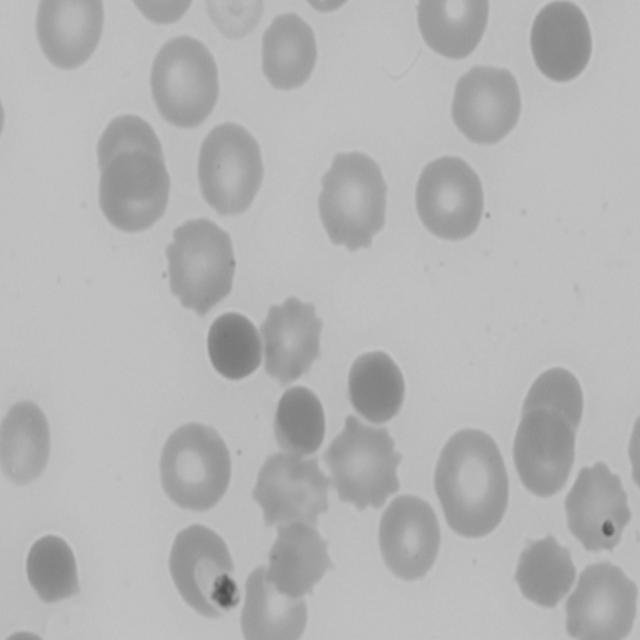RBC: (434, 428, 518, 543), (162, 517, 242, 626), (316, 148, 392, 252), (158, 418, 238, 516), (323, 413, 402, 511), (164, 216, 238, 318), (146, 31, 222, 130), (99, 134, 171, 235), (564, 458, 638, 556), (252, 446, 334, 534), (195, 120, 268, 218), (510, 404, 580, 504), (415, 152, 490, 245), (448, 59, 523, 148), (375, 490, 442, 584), (565, 559, 640, 640), (259, 294, 325, 384), (0, 394, 58, 488), (256, 11, 318, 96), (36, 0, 110, 71), (240, 561, 306, 640), (416, 0, 496, 65), (265, 517, 330, 593), (119, 0, 203, 29)
Spherocyte: (528, 0, 594, 81), (346, 347, 408, 425), (202, 307, 264, 383), (270, 381, 327, 457), (24, 532, 78, 607)
